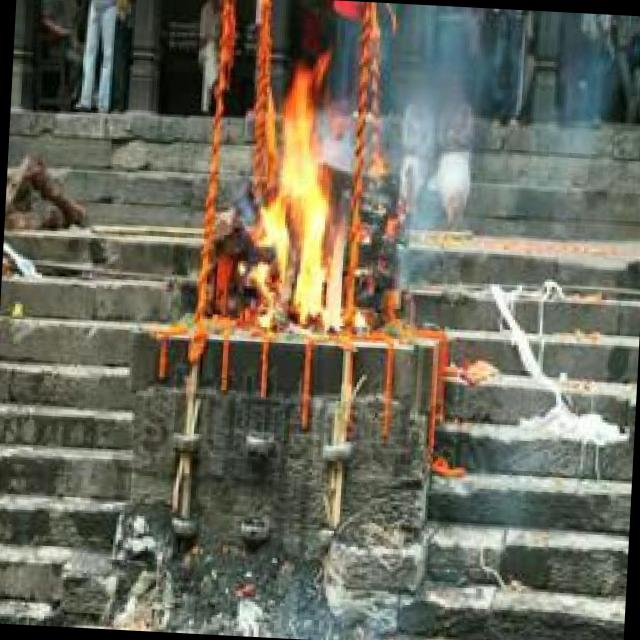Fire: (245, 76, 362, 337)
